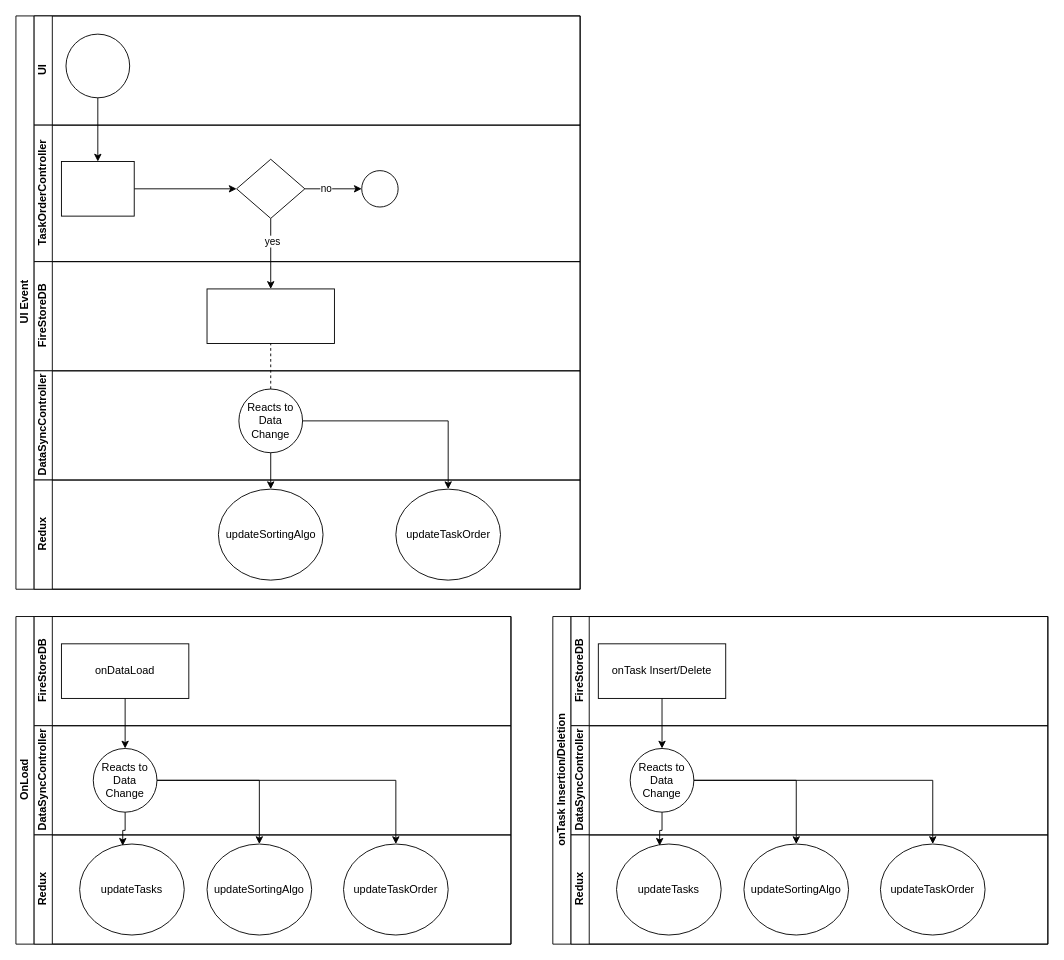
Some shapes in this 1064 by 960 pixel diagram are drawn without their labels. The centre of each missing label's shape, as x and y in pixels:
"addSortFilter" goes at (97,188).
"canAdd" goes at (270,188).
"Clicked on Sort by name" goes at (97,65).
"End" goes at (379,188).
"updateSortingFilters" goes at (270,316).
